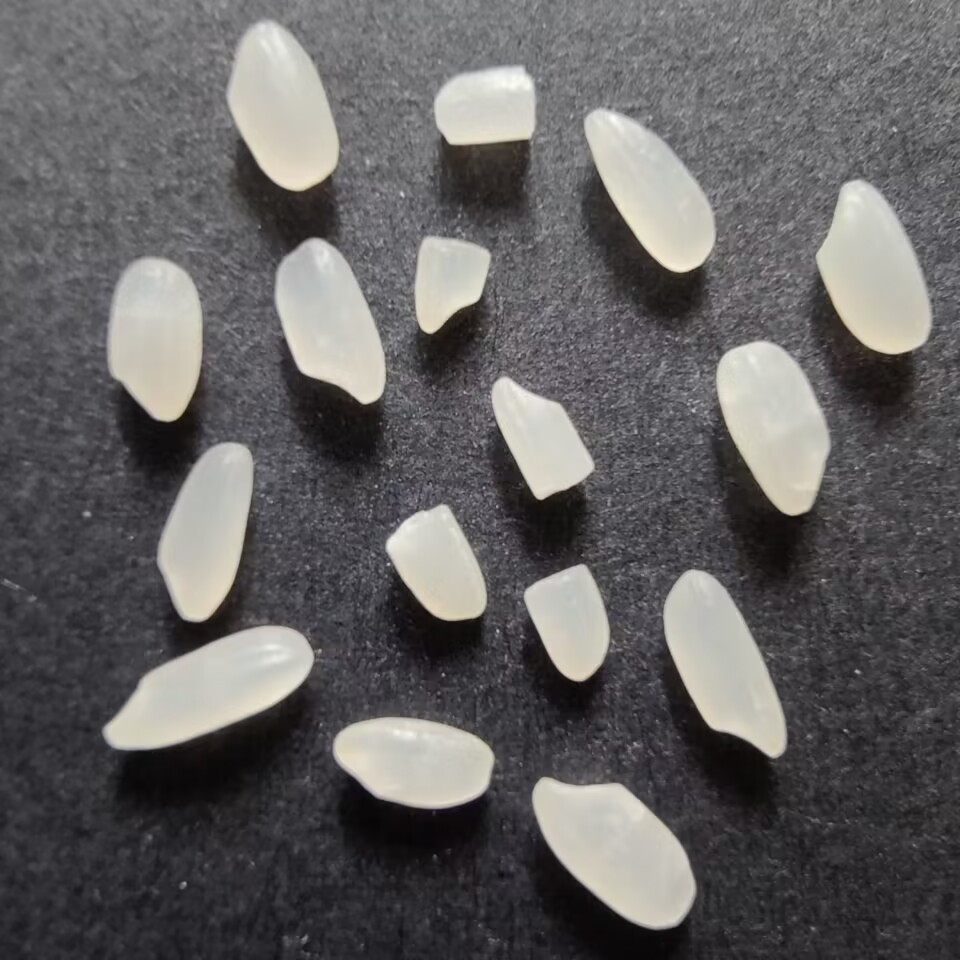broken: (379, 500, 491, 627), (488, 375, 599, 503), (519, 563, 613, 686), (429, 61, 540, 155), (406, 231, 496, 337)
rice: (97, 624, 317, 757), (527, 773, 697, 931), (655, 565, 792, 761), (581, 104, 721, 278), (812, 172, 940, 358), (712, 339, 835, 522), (219, 19, 346, 195), (271, 235, 389, 408), (152, 438, 255, 626), (103, 250, 207, 426), (327, 716, 499, 810)
